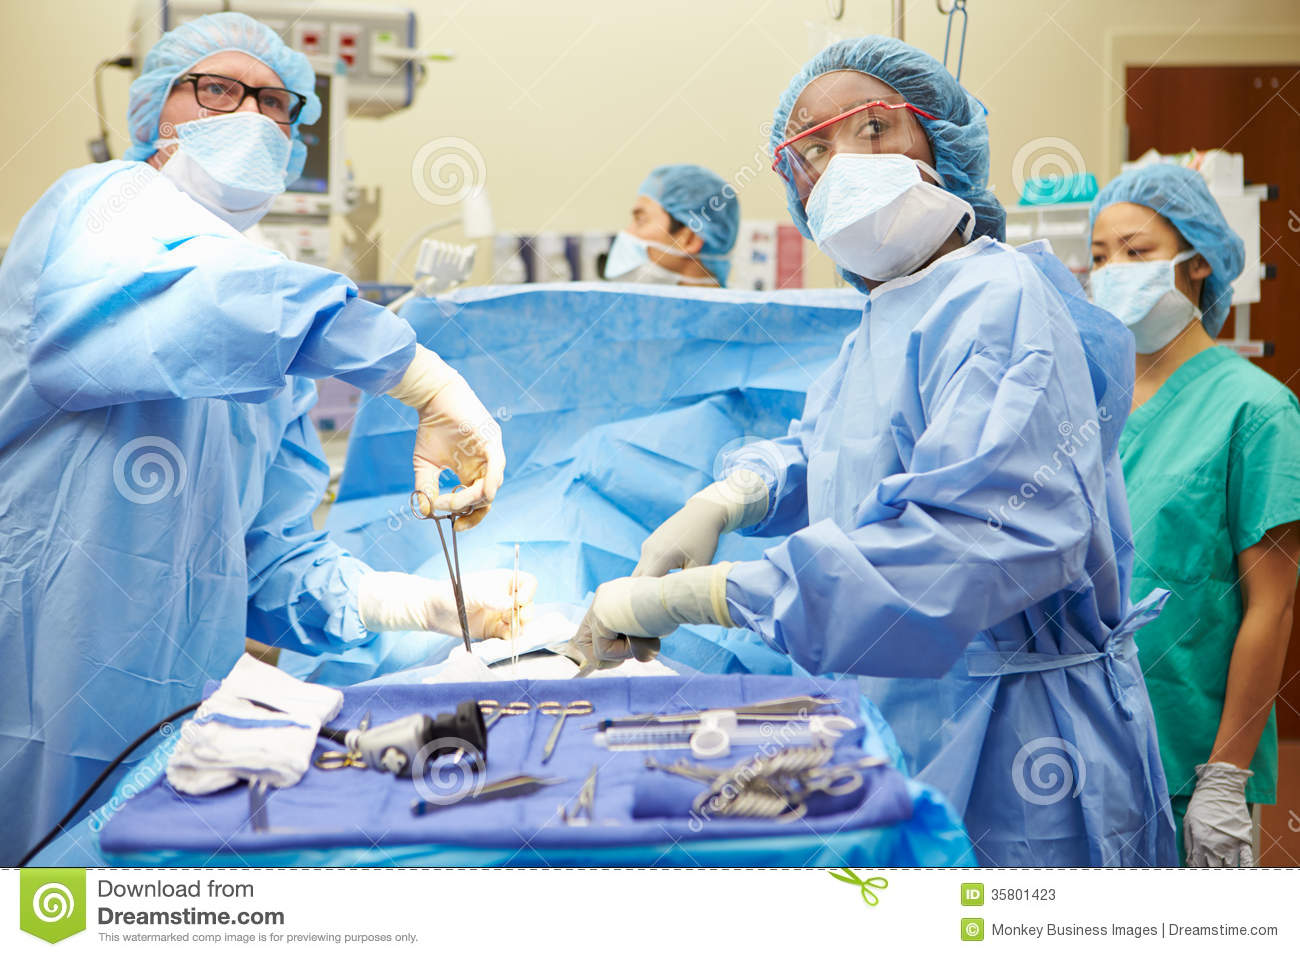mask: (783, 166, 985, 283), (170, 121, 310, 217)
